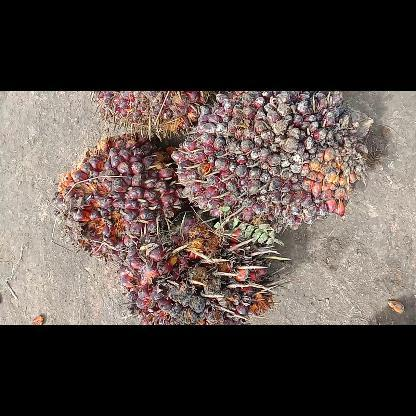Kurang masak: (169, 92, 375, 236), (86, 92, 218, 144)
TBS masak: (116, 210, 292, 324), (54, 132, 192, 268)
